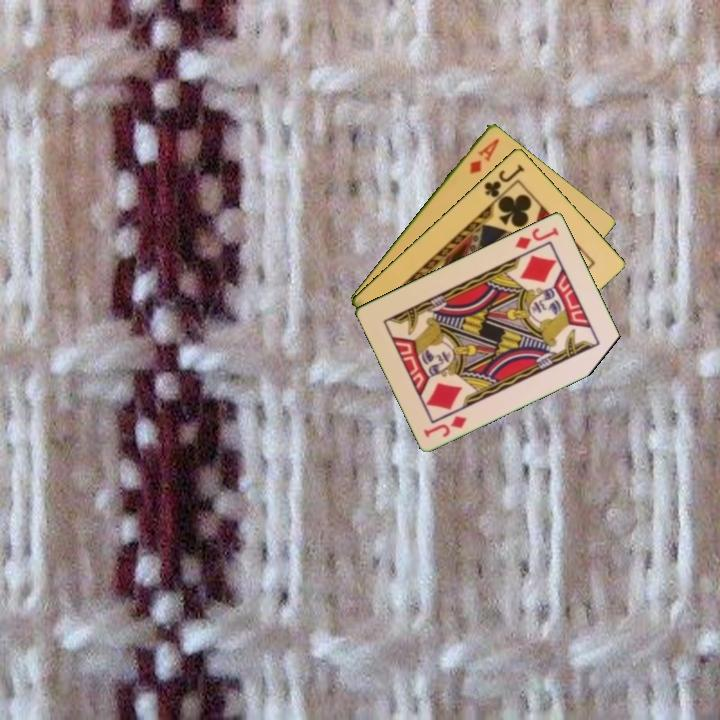Ad: (466, 134, 502, 176)
Jc: (480, 160, 527, 200)
Jd: (512, 223, 562, 252), (420, 411, 470, 440)
